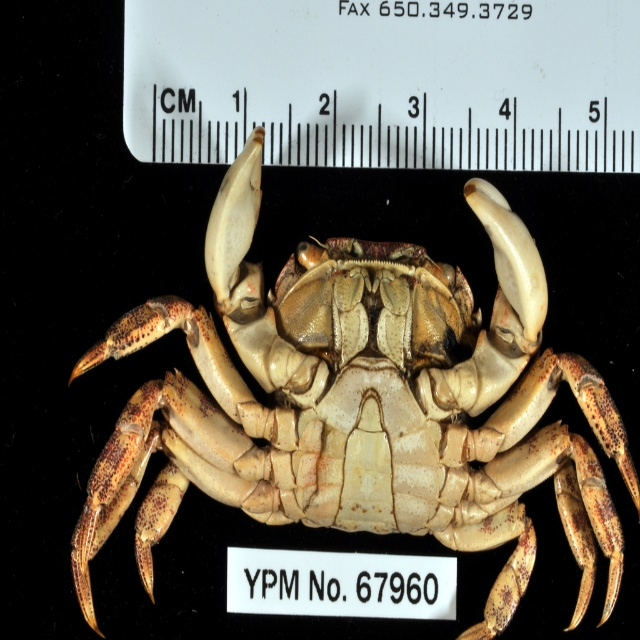Crab: (70, 123, 640, 639)
